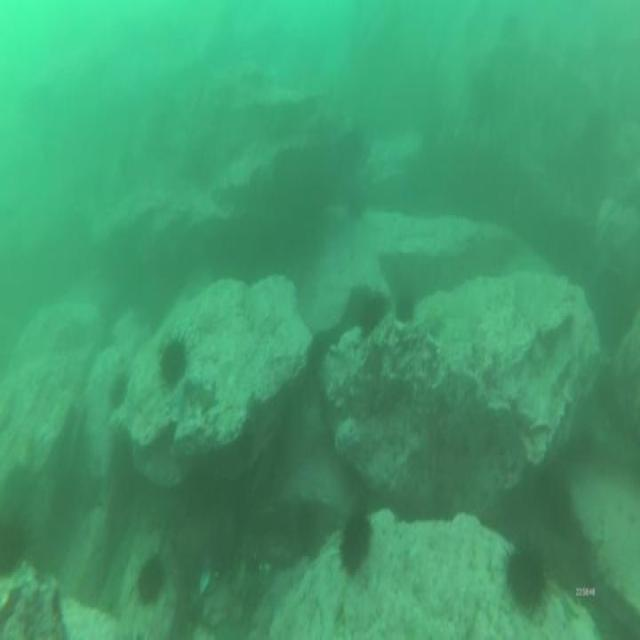echinus: (511, 539, 546, 610), (294, 499, 329, 553), (343, 517, 371, 575), (137, 561, 162, 602), (162, 338, 185, 382), (394, 289, 415, 324), (360, 297, 382, 330), (110, 376, 124, 403)
